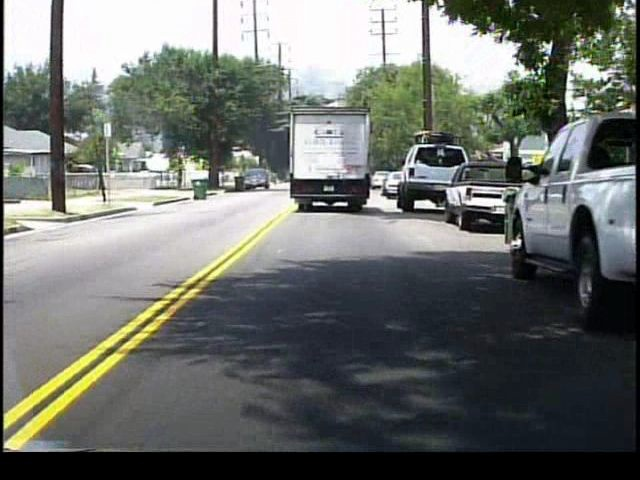person: (177, 165, 187, 190)
